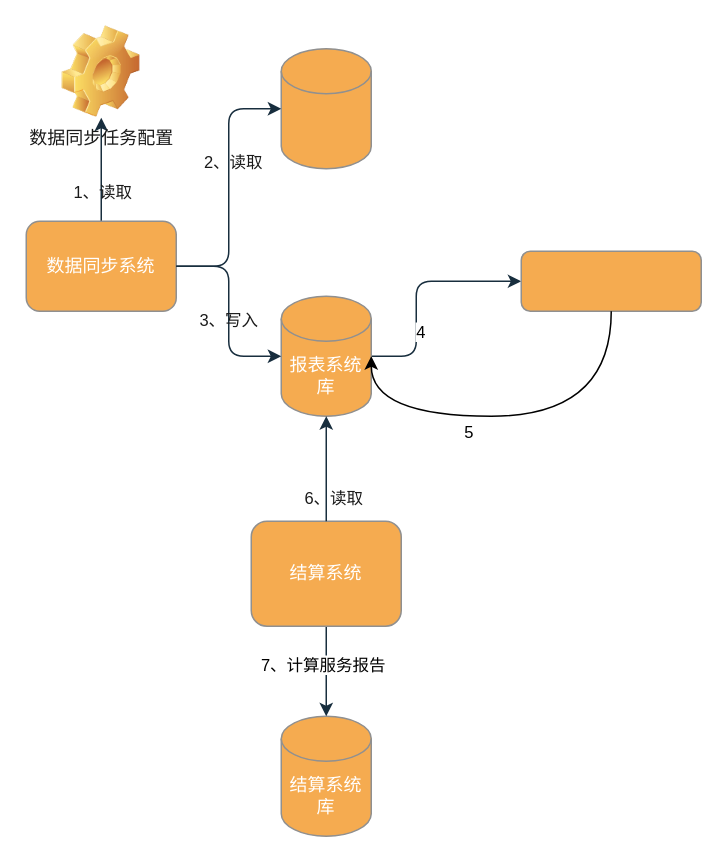
The diagram is 728 pixels wide and 863 high, and some of its shapes have lost their labels. Here are the shapes that lost their labels. From the top down, the centre of each, then its label:
the point at 325,108: 客服系统库
the point at 610,280: 生成宽表
